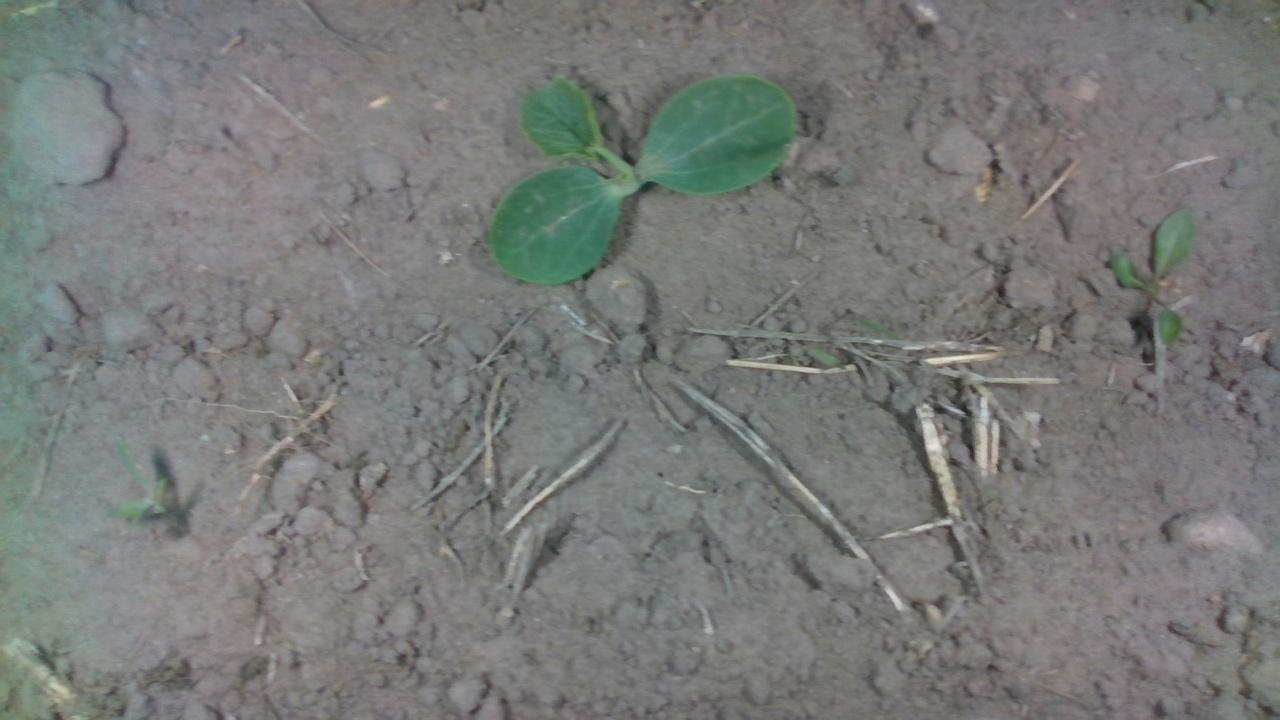crop: (489, 69, 796, 287)
weed: (1109, 204, 1196, 351)
